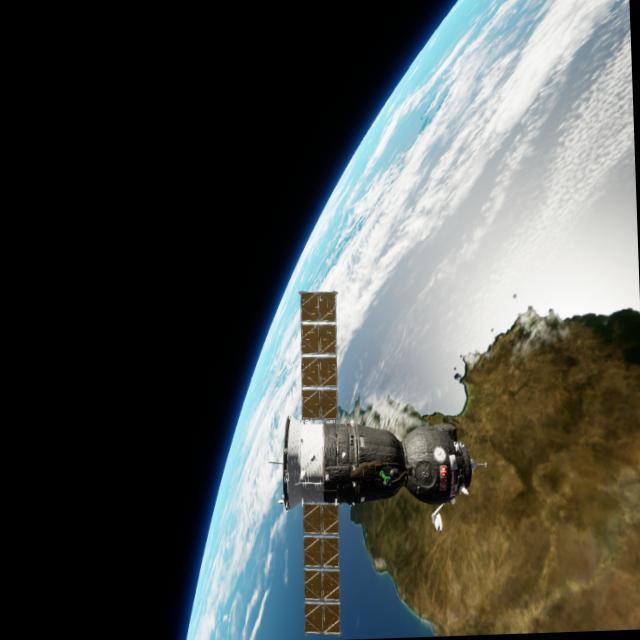Satellites revolving around earth: (161, 0, 640, 640), (267, 404, 487, 518)
